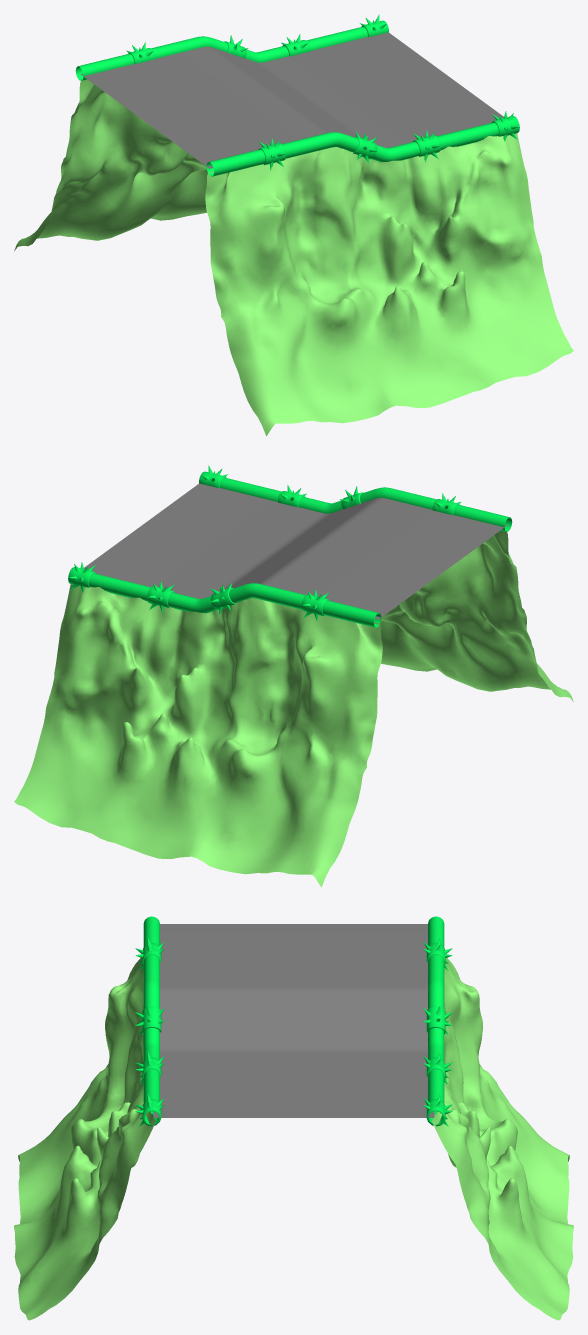
Rendered from Track_Ice_05.fbx.
3 views of the same model, one above another, from view 1: azimuth 30°, elevation 25°; view 2: azimuth 150°, elevation 25°; view 3: azimuth 270°, elevation 25° (orthographic). The views are drawn at different scales.
Parts seen in each view (by area): view 1: Track_Ice_05_walls, Track_Ice_05; view 2: Track_Ice_05_walls, Track_Ice_05; view 3: Track_Ice_05_walls, Track_Ice_05.
Boxes of the visible parts, x1=… form: Track_Ice_05_walls: x1=14, y1=14, x2=573, y2=436; Track_Ice_05: x1=81, y1=32, x2=503, y2=168; Track_Ice_05_walls: x1=14, y1=465, x2=573, y2=887; Track_Ice_05: x1=84, y1=483, x2=506, y2=619; Track_Ice_05_walls: x1=14, y1=916, x2=573, y2=1320; Track_Ice_05: x1=153, y1=924, x2=434, y2=1117.
Size of what is drawn, in the model's own units: 3109 by 4392 by 2297.
